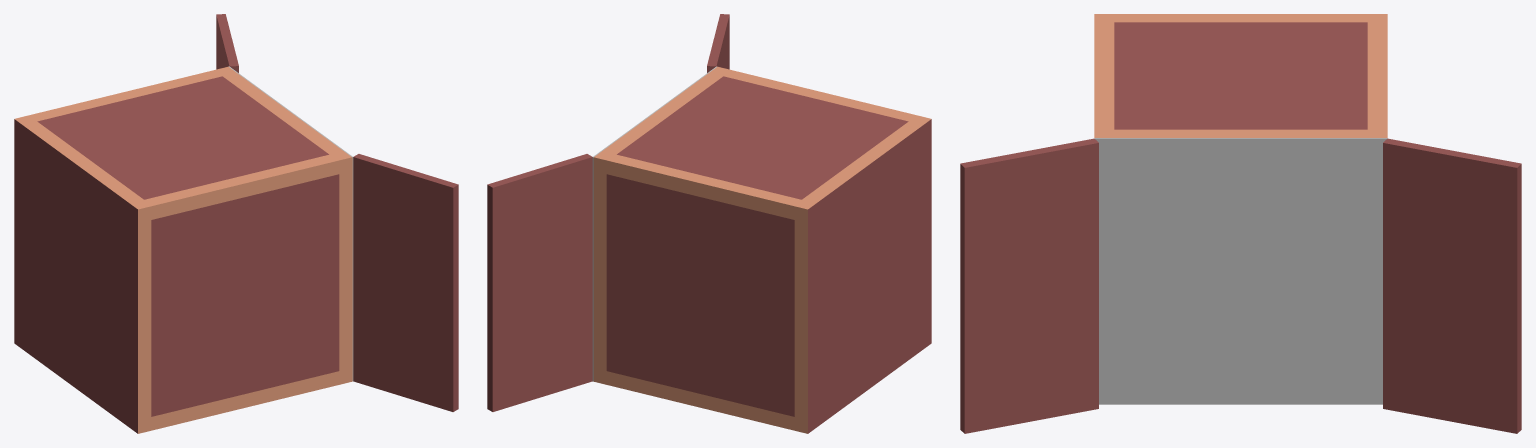
The model's file is box-portal.fbx.
3 renders of one model, left to right at view 1: azimuth 30°, elevation 25°; view 2: azimuth 150°, elevation 25°; view 3: azimuth 270°, elevation 25°, orthographic. The views are drawn at different scales.
Parts seen in each view (by area): view 1: Box; view 2: Box; view 3: Box.
Part boxes in pixels (x1,y1,x2,y2): Box: (14,14,458,433); Box: (487,14,931,433); Box: (960,14,1521,433).
Size of the model in its own units: 248 by 200 by 383.
